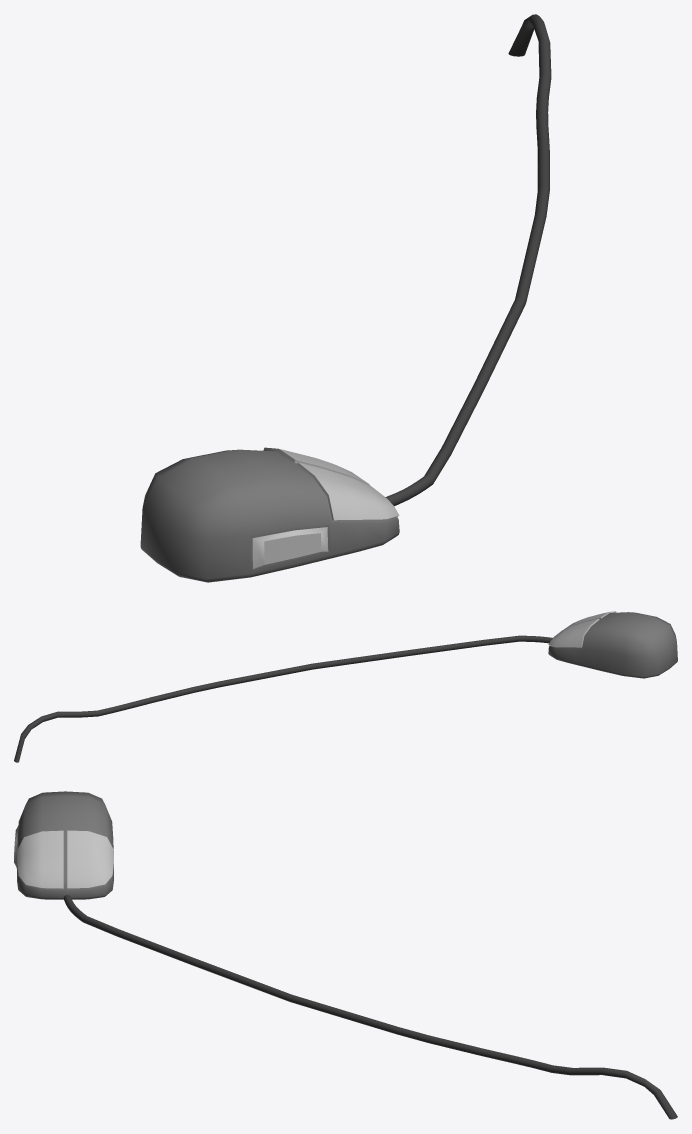
The model's file is Mouse with Cable.fbx.
3 renders of one model, top to bottom at view 1: azimuth 30°, elevation 25°; view 2: azimuth 150°, elevation 25°; view 3: azimuth 270°, elevation 25°, orthographic. The views are drawn at different scales.
Visible parts, largest first — view 1: Mouse with Cable; view 2: Mouse with Cable; view 3: Mouse with Cable.
Part boxes in pixels (left/top/right/bottom): Mouse with Cable: left=140, top=14, right=551, bottom=582; Mouse with Cable: left=14, top=611, right=677, bottom=762; Mouse with Cable: left=14, top=791, right=677, bottom=1119.
Size of the model in its own units: 0.6151 by 0.6559 by 0.0846.
